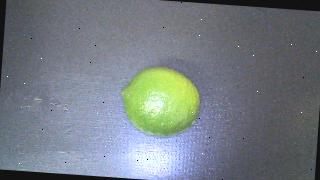EXPORTACION: (119, 64, 202, 138)
